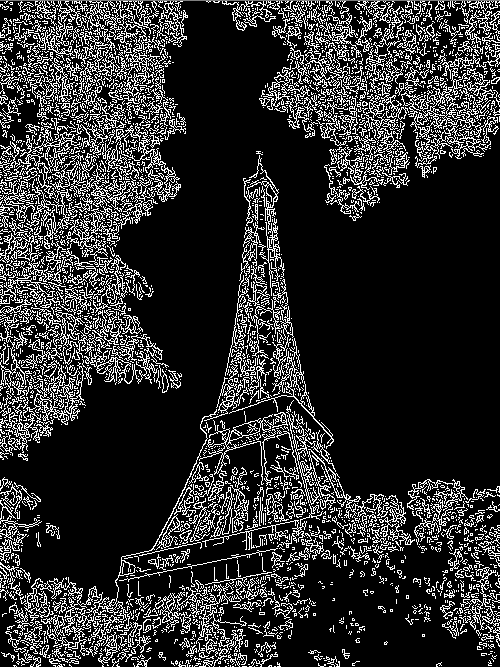eiffel tower: (130, 114, 367, 606)
